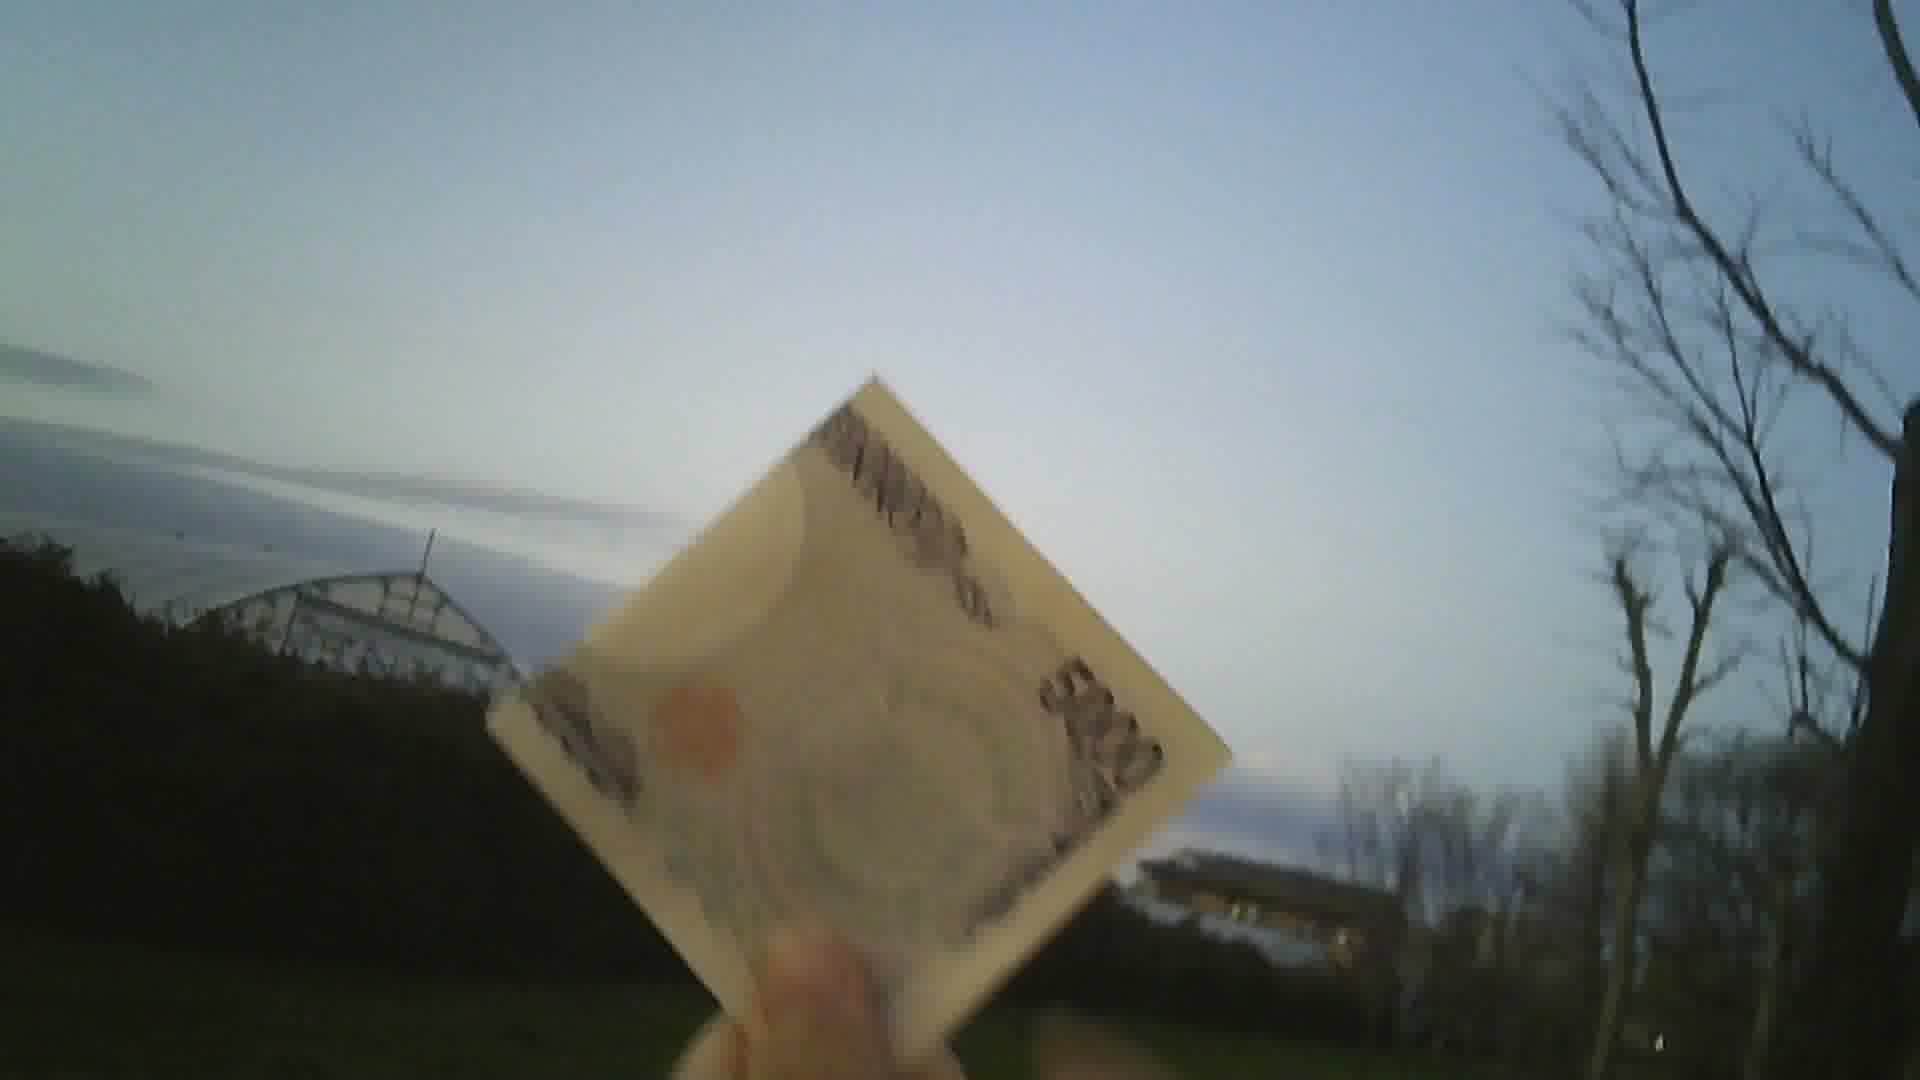5,000 Yen: (491, 327, 1244, 1050)
